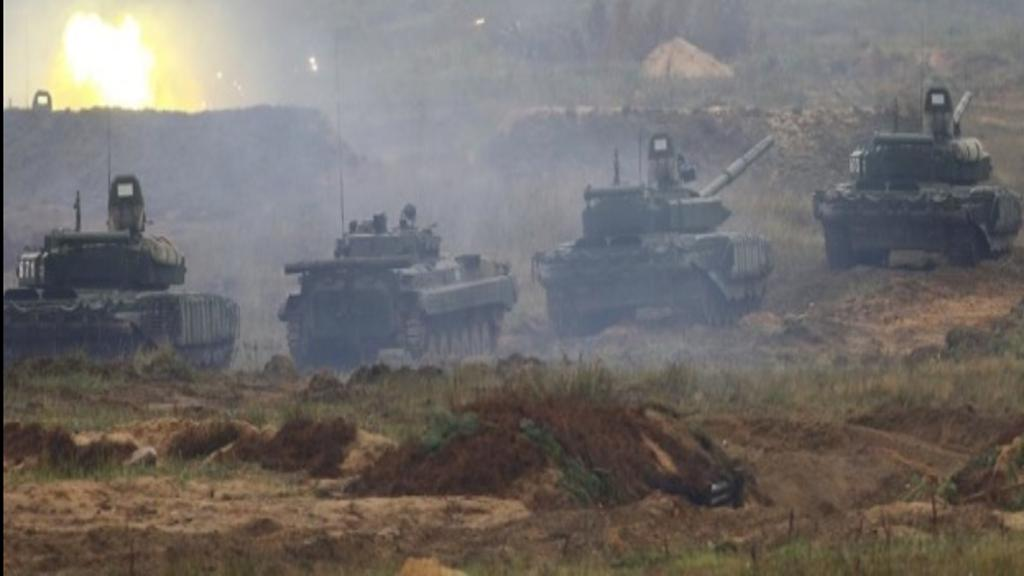APC-IFV: (283, 200, 519, 373)
TANK: (2, 170, 242, 374), (531, 134, 780, 320), (810, 86, 1022, 267)
